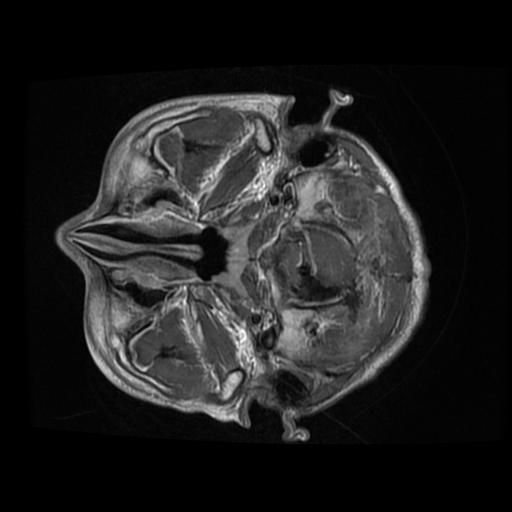glioma: (295, 266, 339, 302)
